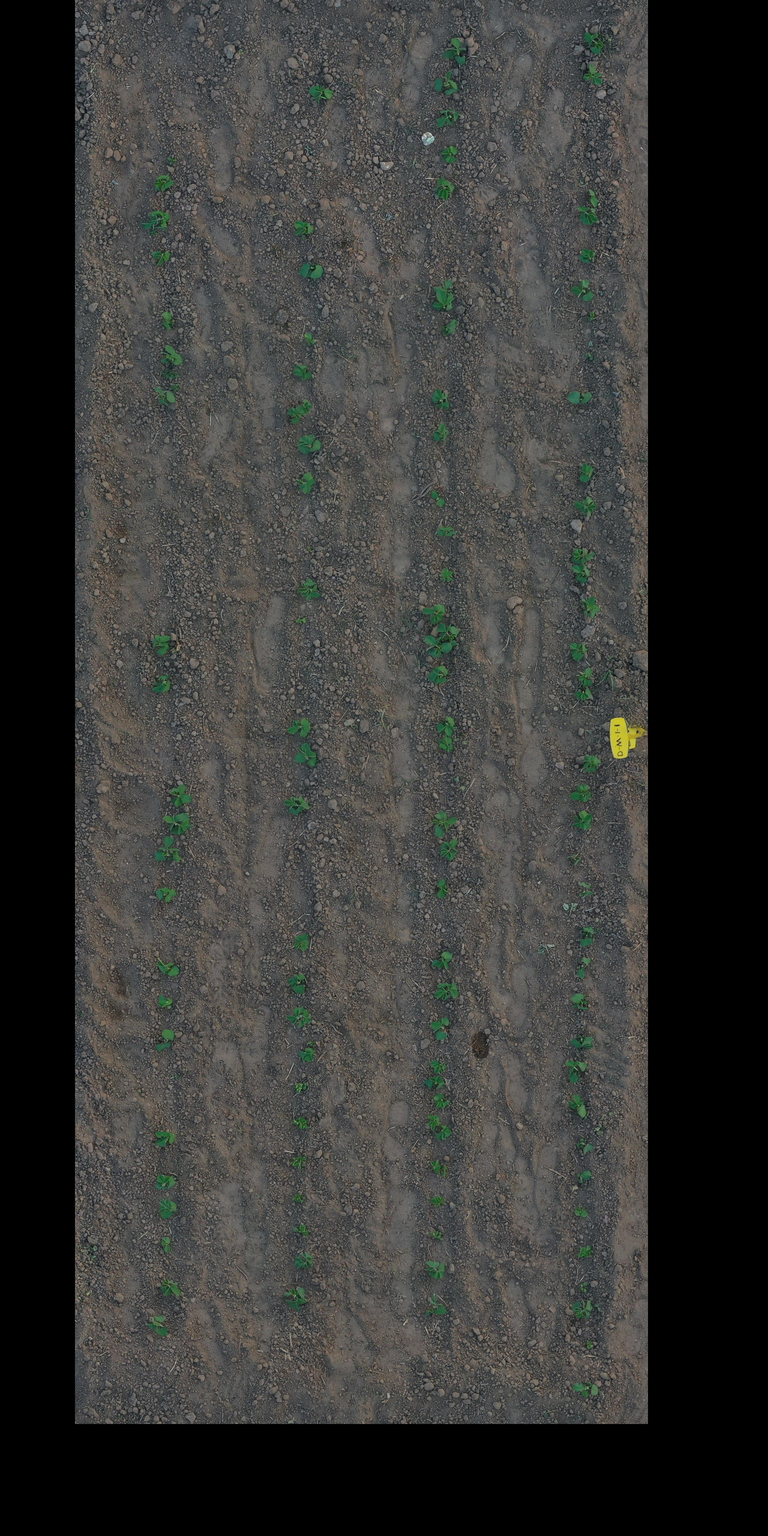s: (154, 835, 183, 863), (430, 810, 459, 838), (162, 812, 193, 835), (433, 69, 459, 96), (423, 635, 452, 659), (442, 37, 467, 64), (435, 622, 460, 648), (140, 210, 170, 231), (294, 741, 318, 767), (144, 1314, 170, 1338), (284, 1286, 308, 1312), (297, 578, 322, 602), (168, 784, 193, 808), (564, 1060, 588, 1085), (431, 288, 457, 311), (155, 956, 182, 978), (283, 795, 311, 816), (570, 278, 594, 302), (432, 176, 455, 201), (294, 434, 321, 455), (434, 108, 462, 128), (425, 1293, 448, 1317), (308, 84, 334, 105), (286, 717, 312, 738), (160, 344, 184, 366), (583, 30, 604, 55), (429, 1016, 450, 1041), (568, 1094, 588, 1120), (153, 385, 176, 407), (568, 782, 592, 803), (434, 982, 460, 1001), (285, 1006, 312, 1024), (572, 1380, 599, 1398), (574, 496, 596, 518), (582, 63, 603, 86), (581, 596, 602, 619), (422, 604, 446, 624), (155, 1029, 175, 1053), (436, 716, 458, 737), (427, 664, 448, 686), (572, 810, 593, 832), (571, 1298, 593, 1319), (286, 972, 306, 995), (299, 262, 324, 280), (577, 205, 598, 226), (151, 674, 172, 695), (295, 472, 315, 494), (158, 1198, 178, 1220), (431, 951, 454, 970), (578, 925, 596, 949), (571, 547, 596, 564), (571, 563, 591, 584), (424, 1260, 445, 1280), (152, 174, 174, 193), (431, 388, 450, 410), (431, 421, 450, 443), (152, 634, 171, 656), (440, 838, 458, 861), (569, 642, 589, 662), (570, 1034, 595, 1050), (432, 278, 454, 296), (154, 1130, 176, 1148), (567, 390, 593, 405), (294, 1251, 314, 1270), (292, 364, 314, 381), (155, 886, 177, 903), (160, 1280, 182, 1297), (575, 956, 591, 979), (154, 1174, 177, 1190), (292, 220, 314, 236), (582, 754, 601, 772), (293, 933, 311, 952), (570, 993, 589, 1011), (440, 146, 458, 164), (441, 319, 459, 337), (437, 734, 454, 753), (151, 250, 171, 266), (578, 667, 594, 687), (579, 462, 594, 483), (423, 1075, 444, 1090), (298, 1046, 316, 1063), (160, 311, 176, 330), (577, 881, 594, 898), (577, 1138, 594, 1155), (434, 1124, 452, 1140), (292, 1224, 312, 1238), (436, 878, 449, 899), (296, 399, 313, 415), (157, 993, 173, 1010), (433, 1093, 450, 1109), (578, 248, 595, 264), (430, 490, 445, 508), (576, 1169, 594, 1184), (436, 525, 458, 537), (427, 1114, 442, 1131), (573, 688, 592, 701), (286, 408, 300, 425), (293, 1154, 307, 1171), (566, 852, 582, 866), (430, 1060, 446, 1074), (429, 1195, 446, 1208), (440, 567, 453, 583), (578, 1245, 594, 1258), (574, 1204, 588, 1218), (292, 1116, 307, 1129), (429, 1159, 441, 1175), (588, 189, 598, 208), (161, 1236, 172, 1253), (429, 1230, 445, 1241), (291, 1193, 306, 1204), (579, 1282, 590, 1294), (290, 1156, 300, 1167), (441, 1164, 448, 1179), (584, 352, 594, 362), (295, 1083, 303, 1094), (301, 1120, 310, 1129), (586, 1340, 594, 1350), (306, 1039, 314, 1047), (302, 1082, 307, 1090)
